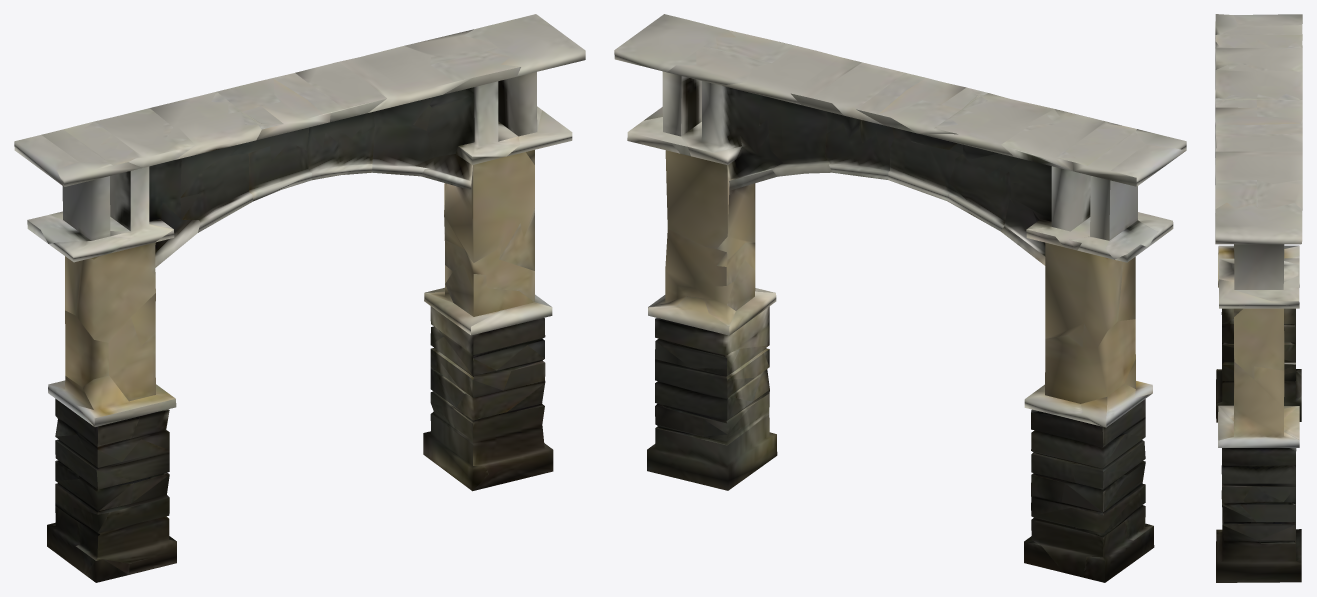
The model's file is gapura_lod2.glb.
3 views of the same model, side by side, from view 1: azimuth 30°, elevation 25°; view 2: azimuth 150°, elevation 25°; view 3: azimuth 270°, elevation 25° (orthographic). The views are drawn at different scales.
Parts seen in each view (by area): view 1: tripo_node_81b69879; view 2: tripo_node_81b69879; view 3: tripo_node_81b69879.
Boxes of the visible parts, left/top/right/bottom form: tripo_node_81b69879: left=14, top=14, right=585, bottom=582; tripo_node_81b69879: left=614, top=14, right=1186, bottom=582; tripo_node_81b69879: left=1215, top=14, right=1302, bottom=582.
Size of the model in its own units: 99.94 by 75.79 by 16.63.
Materials: 1 (1 with a texture image).
